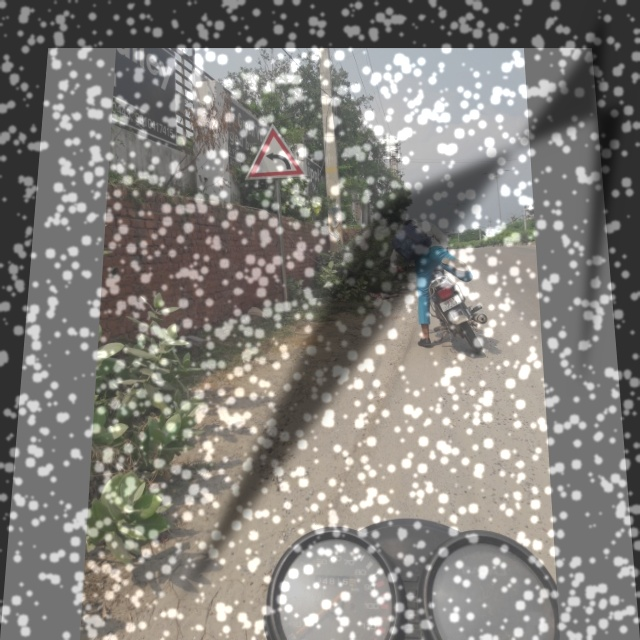Left_Hand_Curve: (242, 124, 308, 184)
